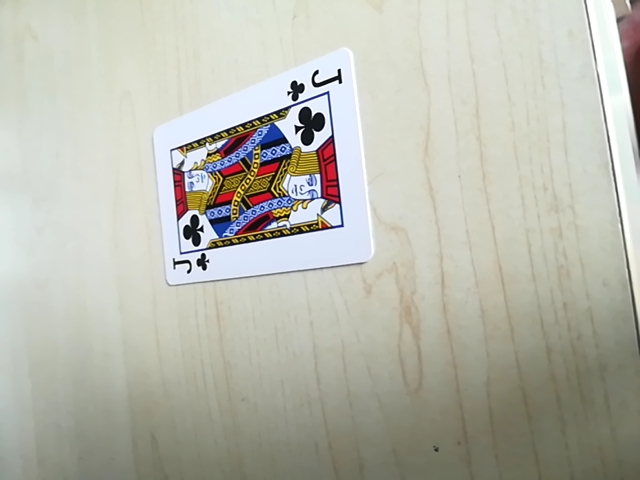mh j: (285, 63, 345, 100), (166, 245, 214, 281)
